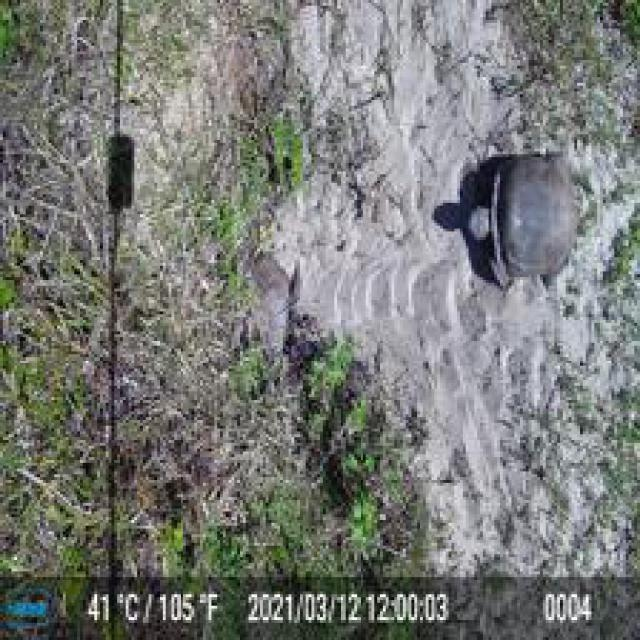tortoise: (469, 151, 577, 285)
